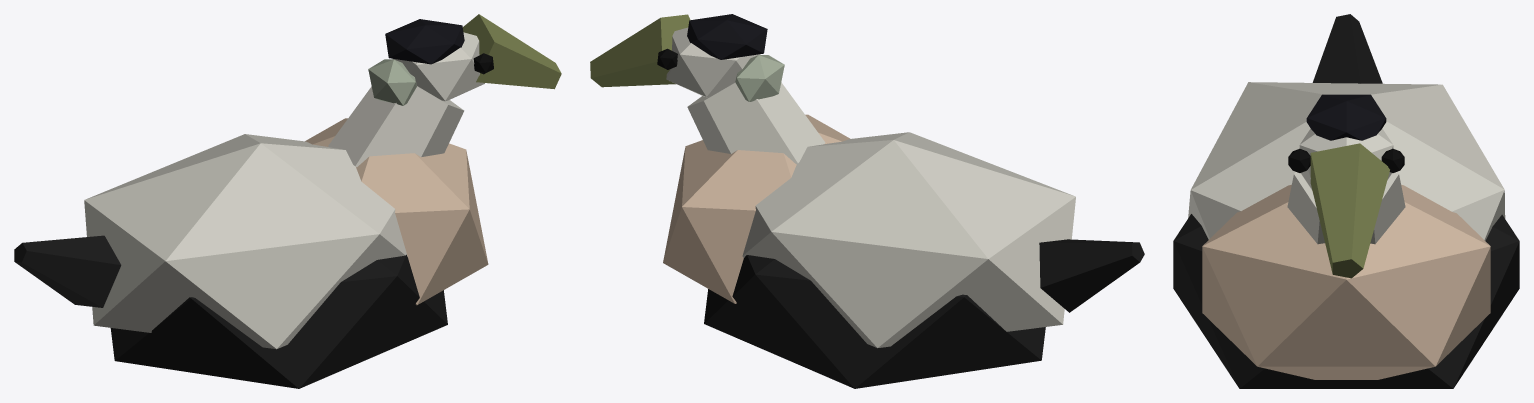
Rendered from eider_drake.glb.
3 renders of one model, left to right at view 1: azimuth 30°, elevation 25°; view 2: azimuth 150°, elevation 25°; view 3: azimuth 270°, elevation 25°, orthographic. The views are drawn at different scales.
Parts seen in each view (by area): view 1: eider_drake; view 2: eider_drake; view 3: eider_drake.
Part boxes in pixels (left/top/right/bottom): eider_drake: left=14, top=14, right=561, bottom=388; eider_drake: left=590, top=14, right=1144, bottom=388; eider_drake: left=1173, top=14, right=1519, bottom=388.
Bounding box in the file's own units: 0.8554 × 0.475 × 0.4083.
